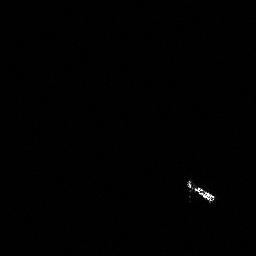ship: (184, 175, 217, 207)
